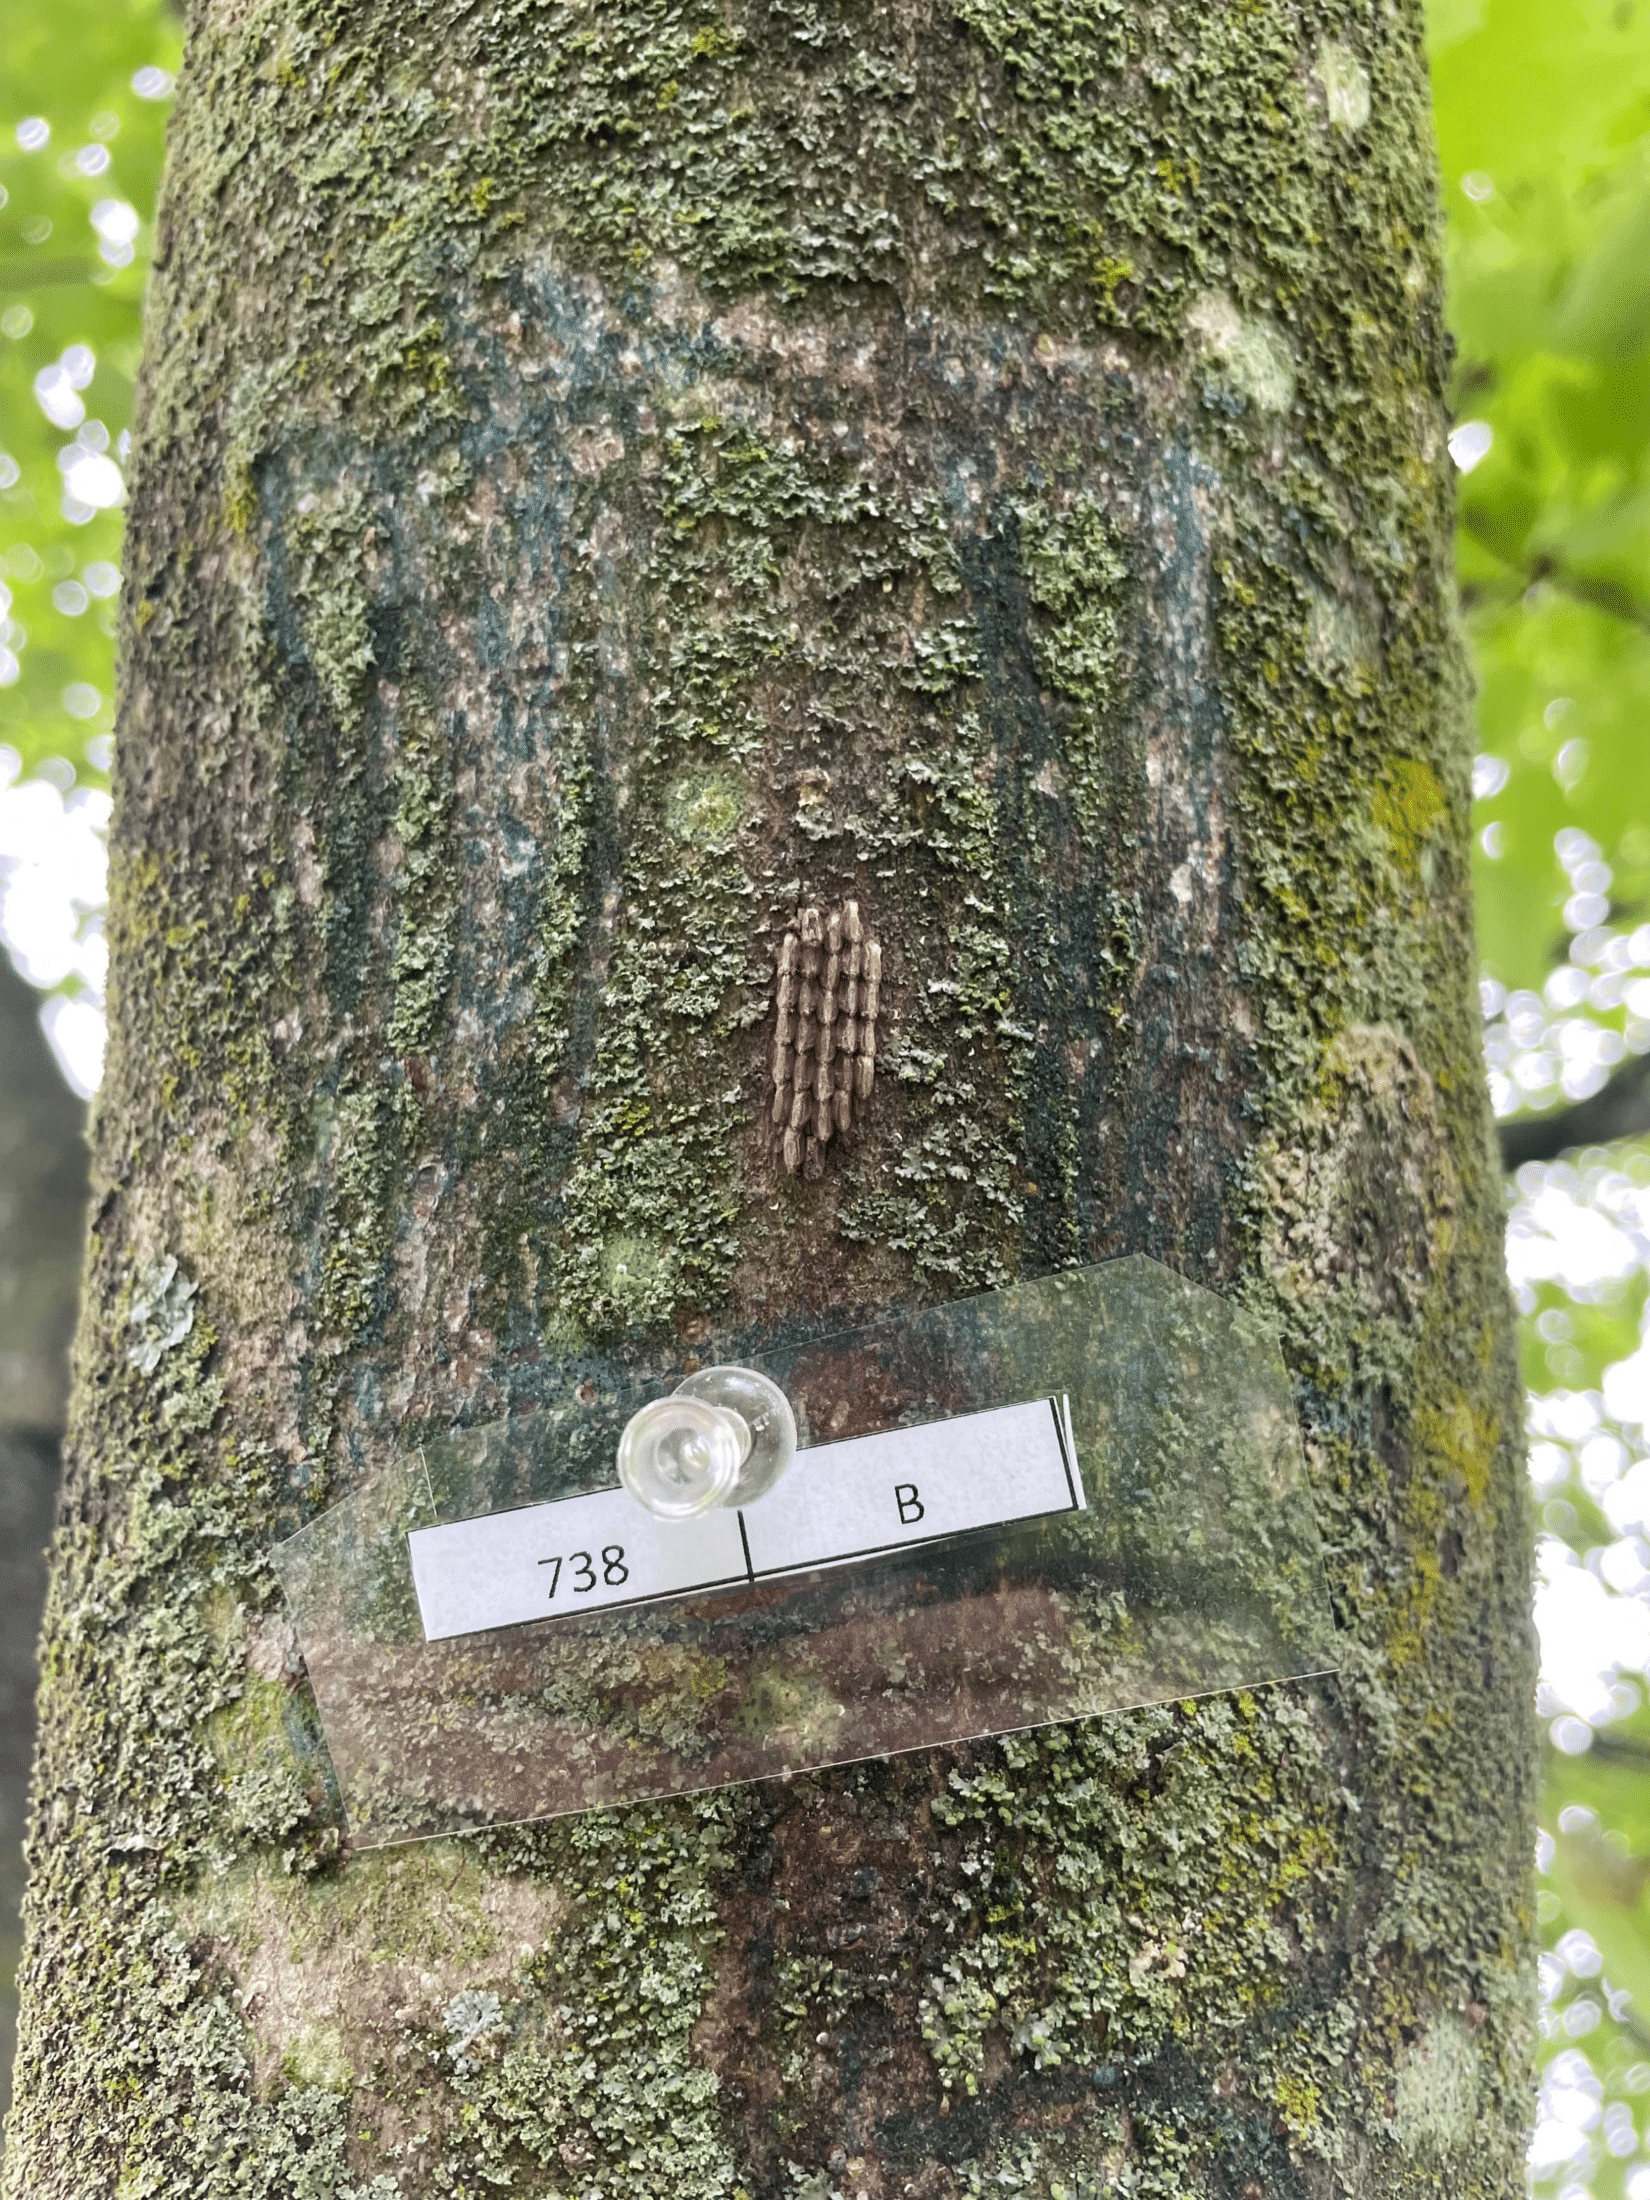egg masses: (716, 831, 927, 1195)
